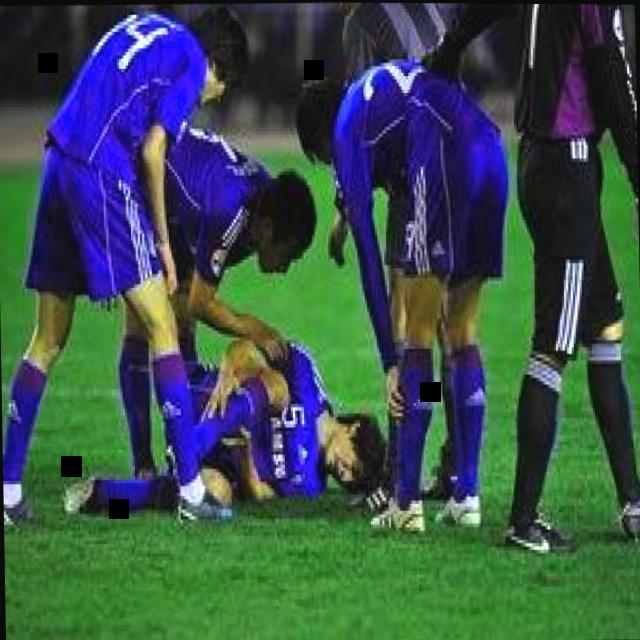Fall-Detected: (60, 299, 395, 522)
